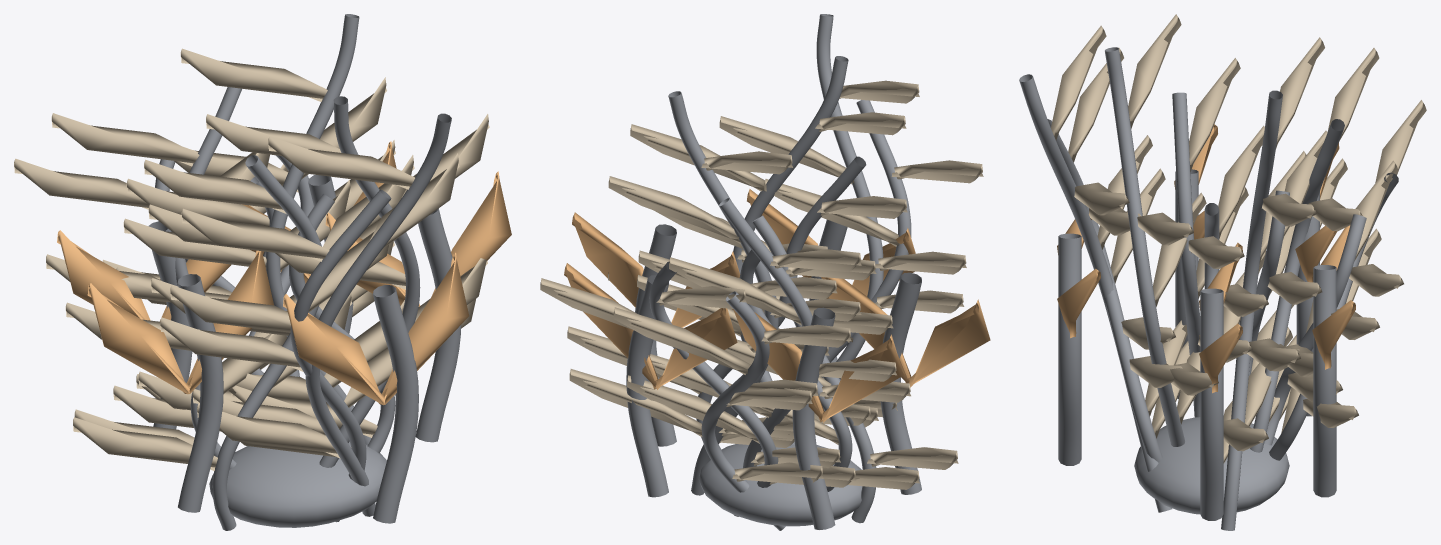
File: bio_aquatic_frond_17_near.glb
3 views of the same model, side by side, from view 1: azimuth 30°, elevation 25°; view 2: azimuth 150°, elevation 25°; view 3: azimuth 270°, elevation 25° (orthographic). The views are drawn at different scales.
Parts seen in each view (by area): view 1: Ruffled aquatic blade.010, Holdfast, Ruffled aquatic blade.035, Ruffled aquatic blade.040, Ruffled aquatic blade.020, Secondary fan lobe.004, Ruffled aquatic blade.025, Ruffled aquatic blade.045, Secondary fan lobe.008, Ruffled aquatic blade.005, Flexible stipe.002, Branching support.002 (+16 smaller); view 2: Ruffled aquatic blade.030, Ruffled aquatic blade.005, Ruffled aquatic blade.015, Holdfast, Ruffled aquatic blade.040, Ruffled aquatic blade.010, Ruffled aquatic blade.020, Ruffled aquatic blade.035, Ruffled aquatic blade.045, Ruffled aquatic blade.025, Secondary fan lobe.008, Secondary fan lobe.006 (+19 smaller); view 3: Holdfast, Ruffled aquatic blade.025, Flexible stipe.005, Ruffled aquatic blade.040, Ruffled aquatic blade.010, Flexible stipe.008, Ruffled aquatic blade.035, Branching support.002, Branching support, Ruffled aquatic blade, Branching support.003, Ruffled aquatic blade.030 (+19 smaller).
Boxes of the visible parts, <box> form: Ruffled aquatic blade.010: <box>170,136,459,457</box>; Holdfast: <box>209,441,386,527</box>; Ruffled aquatic blade.035: <box>160,208,392,458</box>; Ruffled aquatic blade.040: <box>123,48,394,403</box>; Ruffled aquatic blade.020: <box>73,155,414,470</box>; Secondary fan lobe.004: <box>283,252,469,405</box>; Ruffled aquatic blade.025: <box>192,114,489,434</box>; Ruffled aquatic blade.045: <box>65,178,351,445</box>; Secondary fan lobe.008: <box>87,250,273,394</box>; Ruffled aquatic blade.005: <box>46,113,296,410</box>; Flexible stipe.002: <box>305,113,451,516</box>; Branching support.002: <box>373,285,418,523</box>; Ruffled aquatic blade.030: <box>569,307,851,484</box>; Ruffled aquatic blade.005: <box>650,249,896,468</box>; Ruffled aquatic blade.015: <box>540,278,856,487</box>; Holdfast: <box>698,444,862,526</box>; Ruffled aquatic blade.040: <box>608,151,861,438</box>; Ruffled aquatic blade.010: <box>719,80,966,417</box>; Ruffled aquatic blade.020: <box>655,196,958,469</box>; Ruffled aquatic blade.035: <box>764,160,983,427</box>; Ruffled aquatic blade.045: <box>637,275,919,489</box>; Ruffled aquatic blade.025: <box>608,112,906,425</box>; Secondary fan lobe.008: <box>821,277,990,387</box>; Secondary fan lobe.006: <box>564,263,737,389</box>; Holdfast: <box>1134,417,1289,514</box>; Ruffled aquatic blade.025: <box>1128,14,1218,424</box>; Flexible stipe.005: <box>1105,47,1184,446</box>; Ruffled aquatic blade.040: <box>1245,37,1324,426</box>; Ruffled aquatic blade.010: <box>1051,25,1187,416</box>; Flexible stipe.008: <box>1221,90,1282,530</box>; Ruffled aquatic blade.035: <box>1068,47,1189,438</box>; Branching support.002: <box>1058,233,1081,465</box>; Branching support: <box>1200,288,1223,520</box>; Ruffled aquatic blade: <box>1218,125,1268,463</box>; Branching support.003: <box>1313,265,1336,497</box>; Ruffled aquatic blade.030: <box>1281,100,1426,433</box>.
Size of the model in its own units: 1.85 by 1.89 by 1.57.
